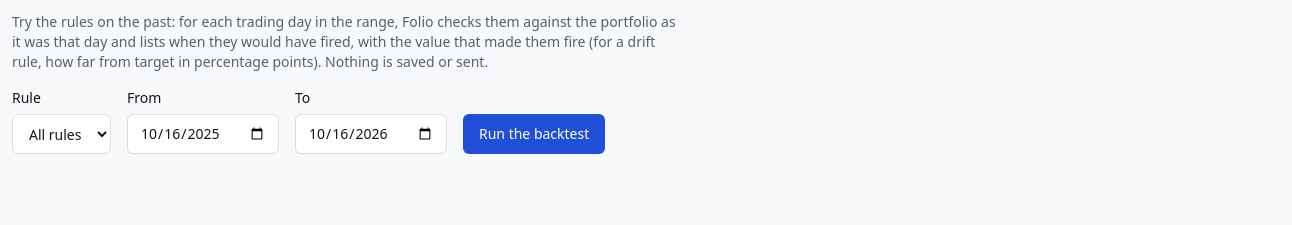
Test: the backtest (FR-ST-06) › explains a request that cannot be run
Click the button "Run the backtest" at (534, 134), box [463, 114, 605, 154]
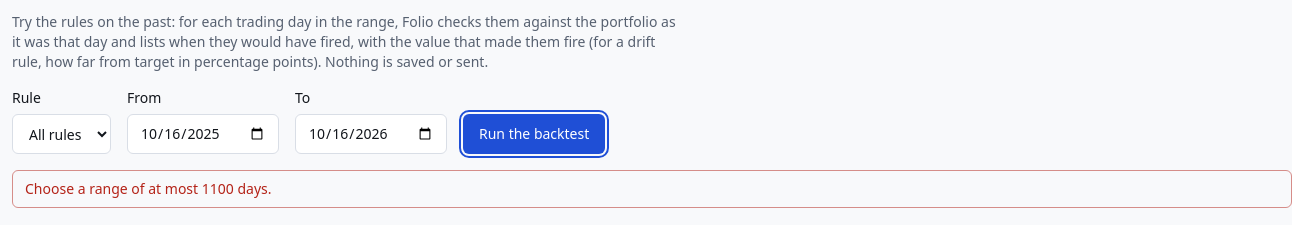
Now the text "Choose a range of at most 1100 days." is shown, box [12, 170, 1291, 208]
